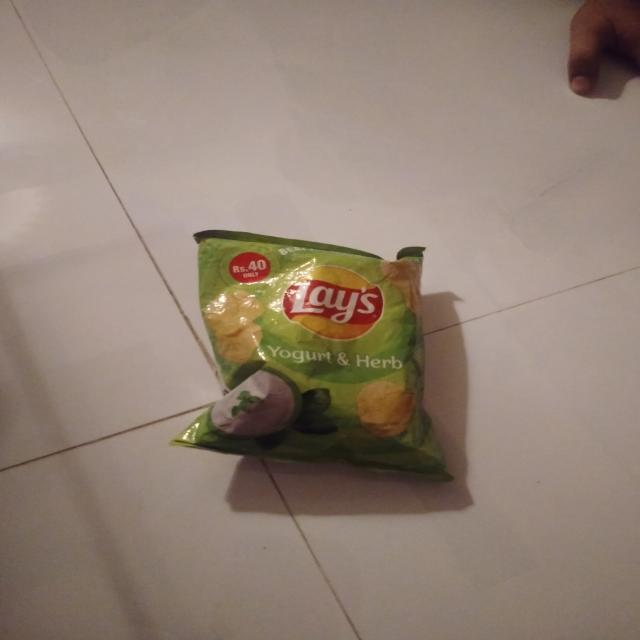Plastic: (186, 232, 457, 486)
